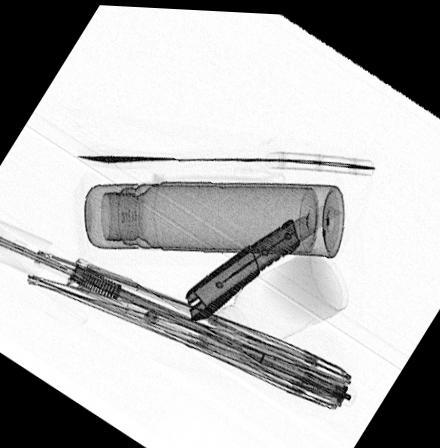Knife: (183, 198, 343, 320), (77, 147, 375, 170)
